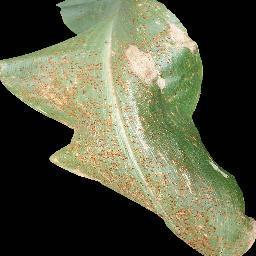Corn_Common_Rust: (0, 0, 239, 178), (79, 177, 256, 256)
